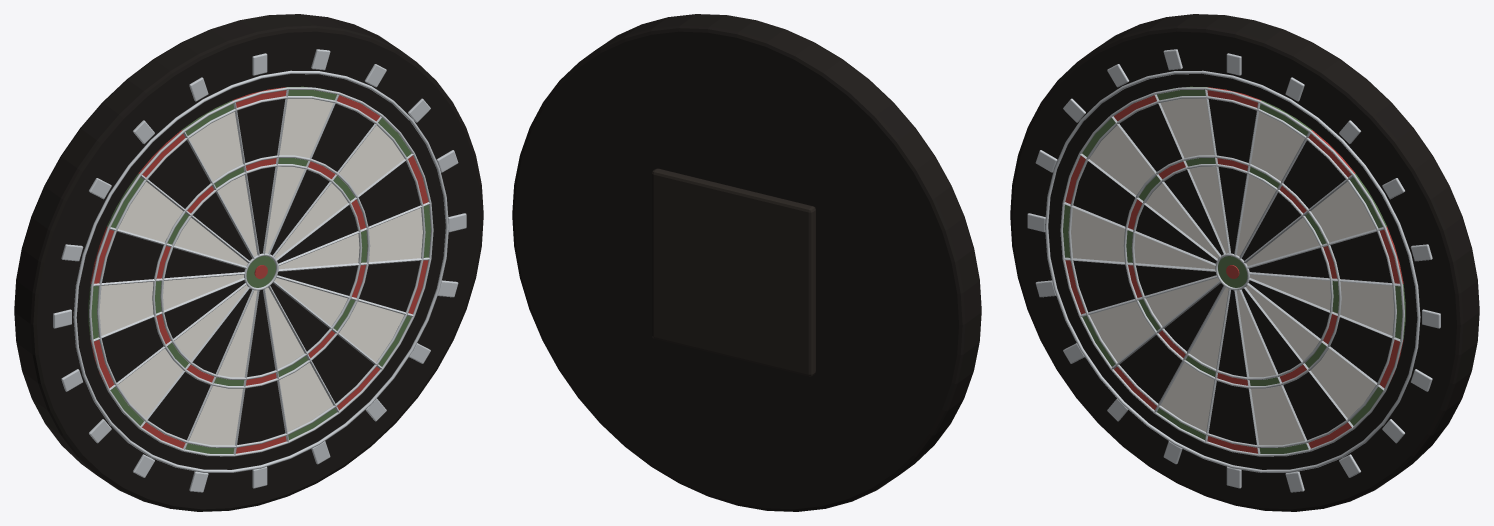
The model's file is hh_cat_dartboard.glb.
The picture shows the model from 3 angles, left to right: view 1: azimuth 30°, elevation 25°; view 2: azimuth 150°, elevation 25°; view 3: azimuth 330°, elevation 25°; orthographic projection.
Visible parts, largest first — view 1: board, number_ring, wire.004, wire.003, seg.038, seg.078, seg.066, seg.026, seg.030, seg.042, seg.034, seg.022 (+35 smaller); view 2: board, bracket; view 3: board, number_ring, wire.004, wire.003, seg.046, seg.006, seg.018, seg.042, seg.054, seg.058, seg.050, seg.062 (+35 smaller).
Boxes of the visible parts, box(x1,y1,x2,y2) form: board: box(14, 14, 483, 511); number_ring: box(73, 70, 448, 472); wire.004: box(89, 87, 433, 456); wire.003: box(97, 96, 425, 447); seg.038: box(189, 386, 242, 445); seg.078: box(279, 98, 333, 157); seg.066: box(359, 161, 420, 226); seg.026: box(102, 317, 163, 382); seg.030: box(118, 348, 183, 418); seg.042: box(237, 381, 285, 444); seg.034: box(148, 372, 210, 440); seg.022: box(99, 281, 153, 335); board: box(512, 14, 981, 511); bracket: box(652, 168, 815, 376); board: box(1010, 14, 1479, 511); number_ring: box(1045, 70, 1420, 472); wire.004: box(1060, 87, 1404, 456); wire.003: box(1068, 96, 1396, 447); seg.046: box(1251, 386, 1304, 445); seg.006: box(1160, 98, 1214, 157); seg.018: box(1073, 161, 1134, 226); seg.042: box(1208, 381, 1256, 444); seg.054: box(1310, 348, 1375, 418); seg.058: box(1330, 317, 1391, 382); seg.050: box(1283, 372, 1345, 440); seg.062: box(1340, 281, 1394, 335).
Bounding box in the file's own units: 0.45 × 0.45 × 0.05.
